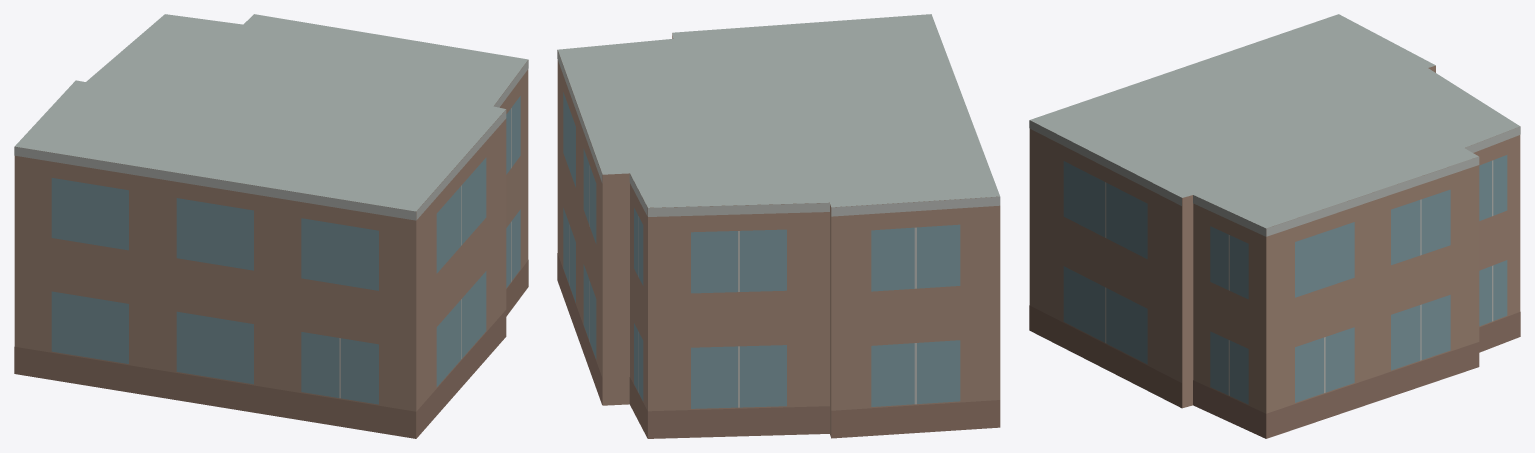
The model's file is survey-upis-32585063.glb.
The picture shows the model from 3 angles, left to right: view 1: azimuth 30°, elevation 25°; view 2: azimuth 150°, elevation 25°; view 3: azimuth 270°, elevation 25°; orthographic projection. The views are drawn at different scales.
Parts seen in each view (by area): view 1: survey-upis-32585063.tmp; view 2: survey-upis-32585063.tmp; view 3: survey-upis-32585063.tmp.
Part boxes in pixels (<box>): survey-upis-32585063.tmp: <box>14,14,528,438</box>; survey-upis-32585063.tmp: <box>557,14,1000,438</box>; survey-upis-32585063.tmp: <box>1029,14,1520,438</box>.
Bounding box in the file's own units: 13.34 × 6.1 × 12.91.
